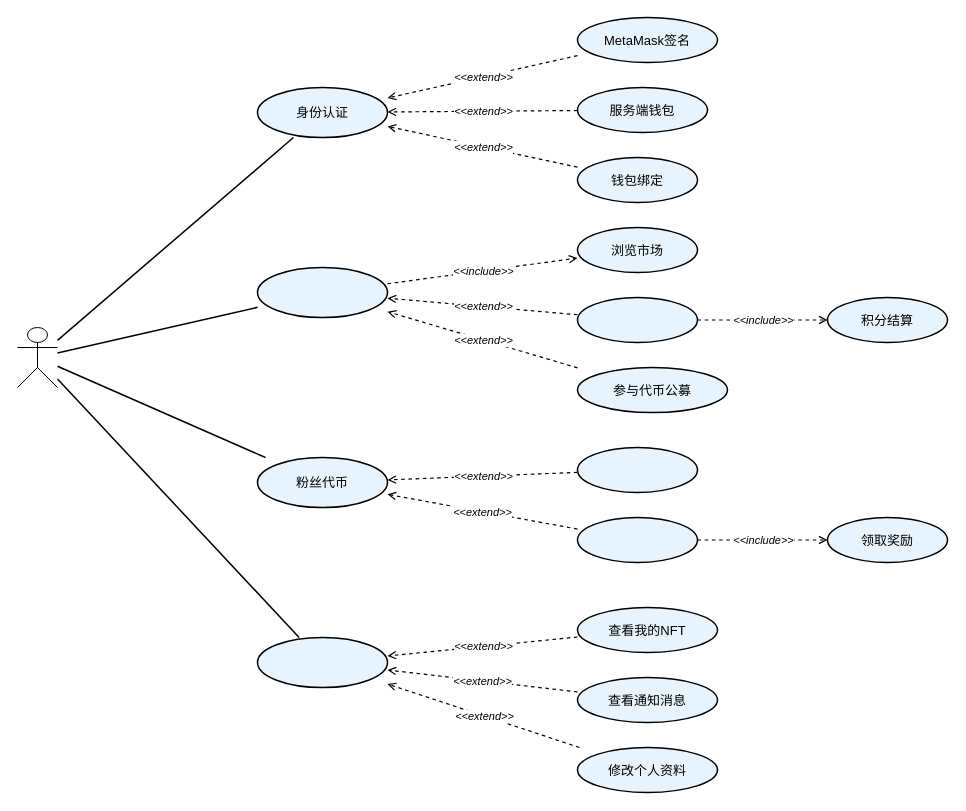
Image size: 966x811. Some labels were removed from this diagram. The shapes that lost their labels are listed below. From the top down, each one's centre as x and y in pixels, then its label:
the point at 322,292: 市场交易
the point at 637,319: 购买NFT
the point at 37,357: 用户
the point at 637,469: 质押代币
the point at 637,539: 解除质押
the point at 322,662: 个人中心
